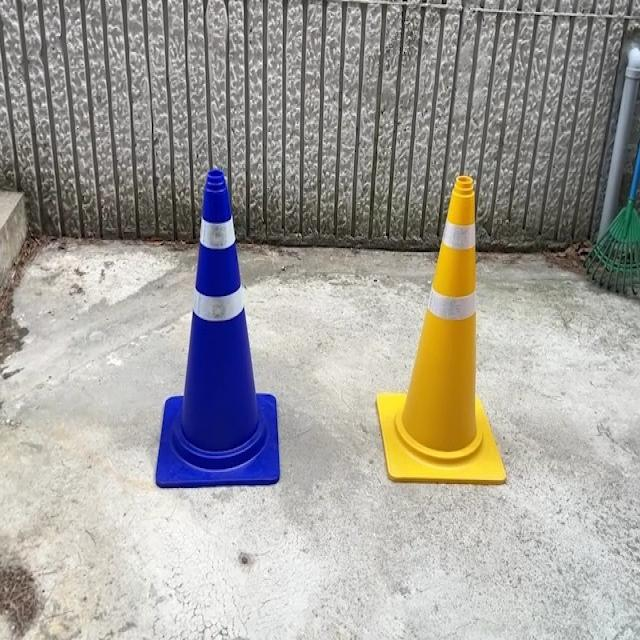b_rub: (156, 168, 280, 488)
y_rub: (377, 175, 507, 485)
